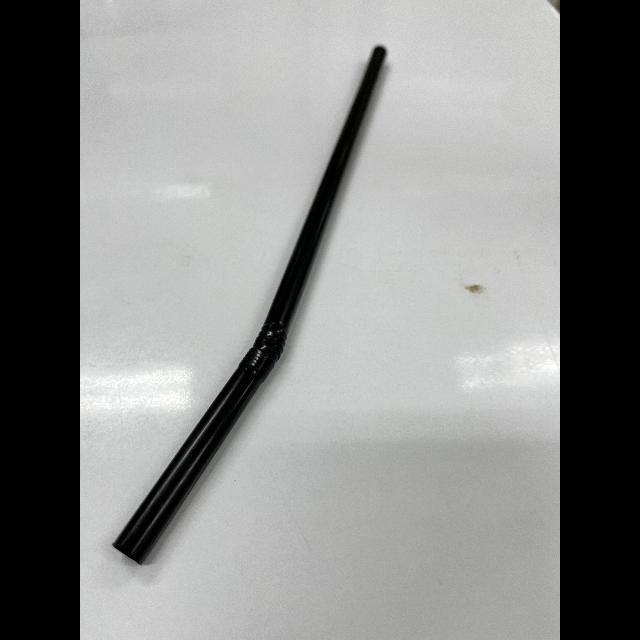straw: (107, 40, 391, 574)
